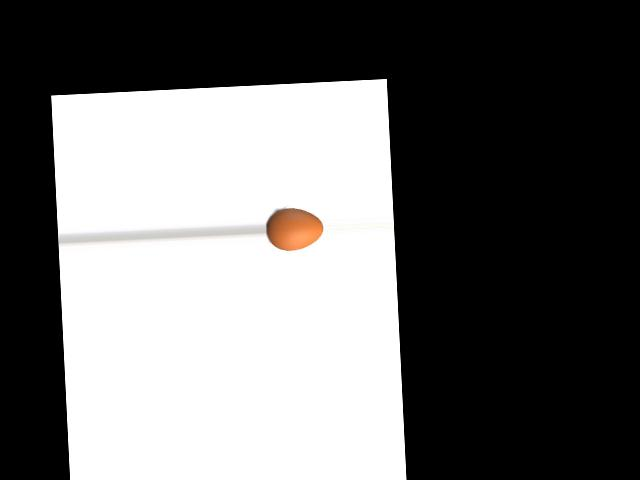egg: (265, 206, 323, 251)
